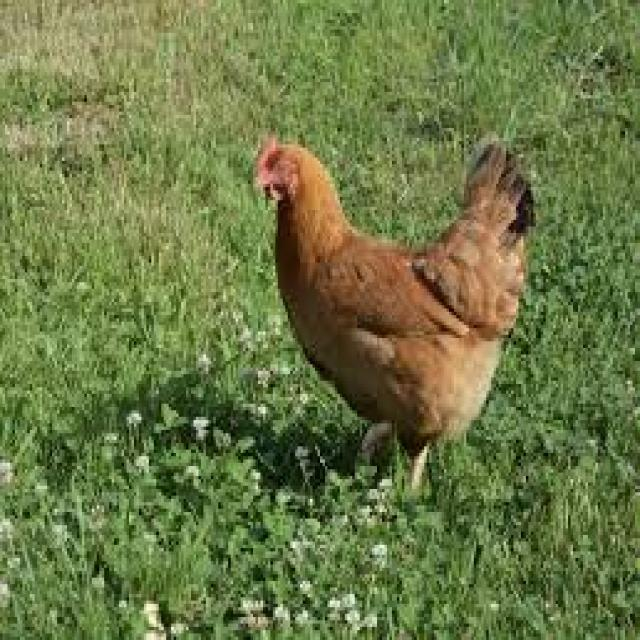Chicken: (253, 98, 557, 552)
